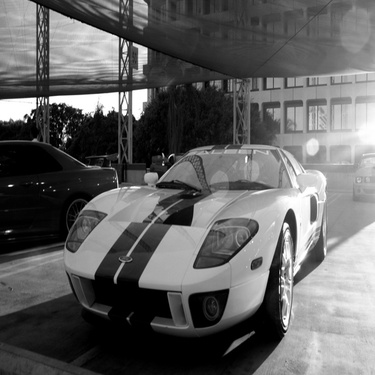car: (55, 129, 336, 356), (4, 131, 123, 264), (345, 146, 374, 208)
